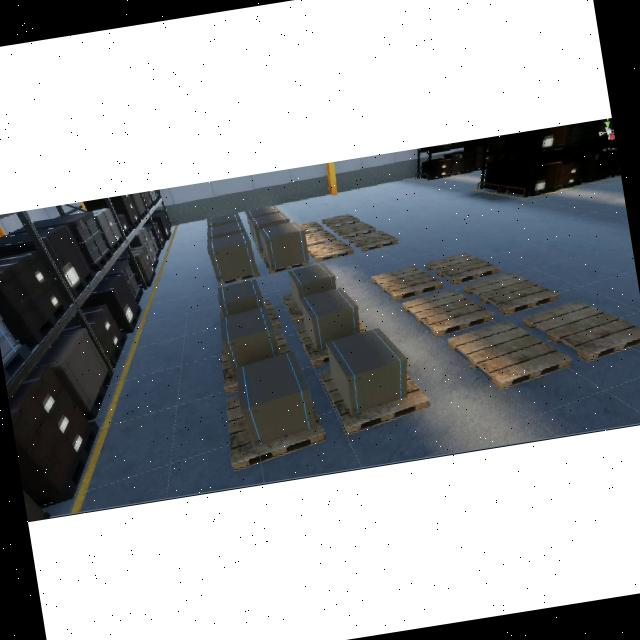wooden_pallet: (448, 320, 574, 389), (315, 369, 432, 436), (521, 300, 640, 363), (226, 398, 327, 469), (402, 289, 495, 337), (464, 272, 559, 317), (371, 265, 444, 301), (425, 252, 501, 284), (308, 239, 354, 263), (349, 230, 399, 252), (333, 221, 376, 239), (263, 259, 310, 275), (322, 212, 360, 229), (218, 271, 260, 286), (306, 229, 337, 245), (298, 220, 324, 233)
